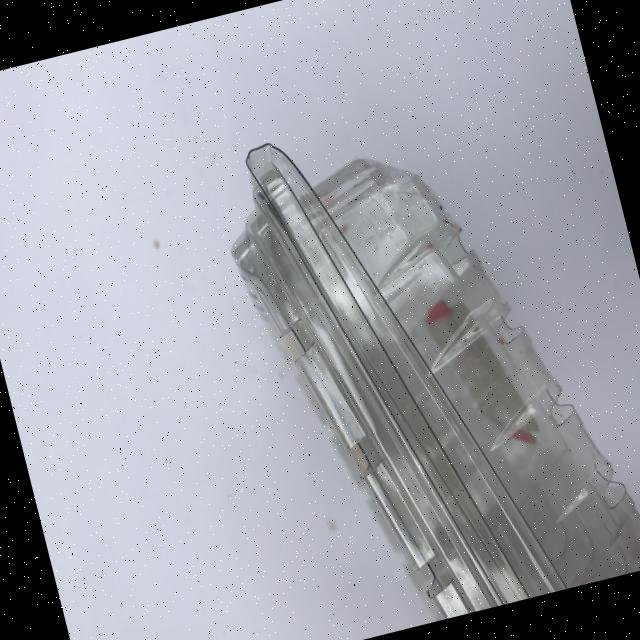plastic: (206, 72, 640, 640)
